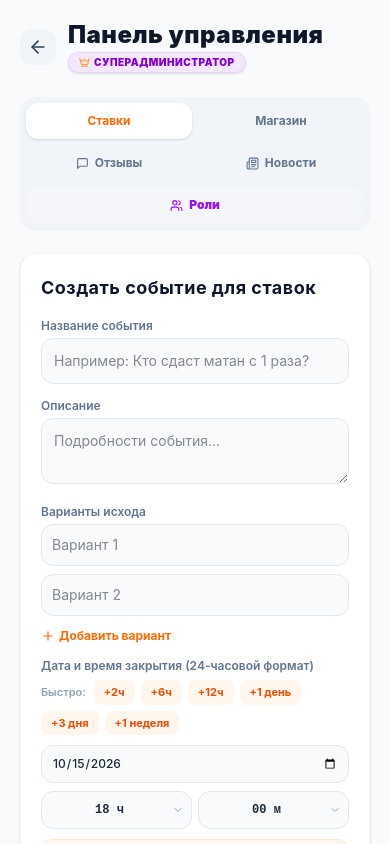
Test case: TmaAdmin Component › renders for superadmin with Roles tab and allows opening roles management
Expected: the text "Суперадминистратор" is shown, [68,52,246,73]
Expected: the text "Роли" is shown, [189,197,220,213]
// Click roles tab
Click the button "Роли": [195, 205] box [26,187,364,223]
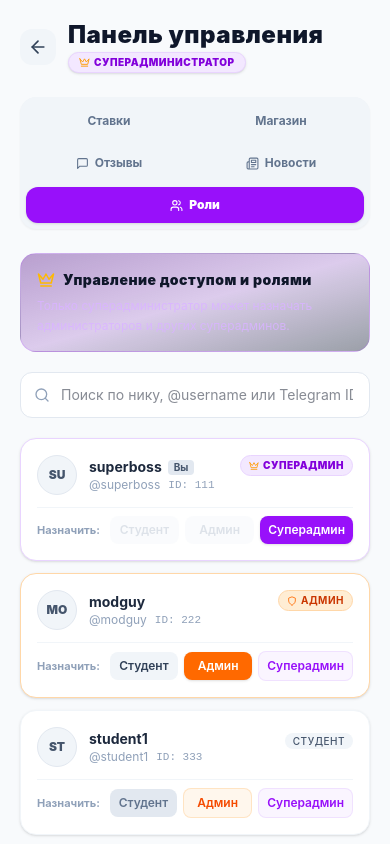
Expected: the heading "Управление доступом и ролями" is shown, [63,270,312,290]
Expected: the field with placeholder "Поиск по нику, @username или Telegram ID..." is shown, [20,372,370,418]
Expected: the text "@superboss" is shown, [89,477,160,493]
